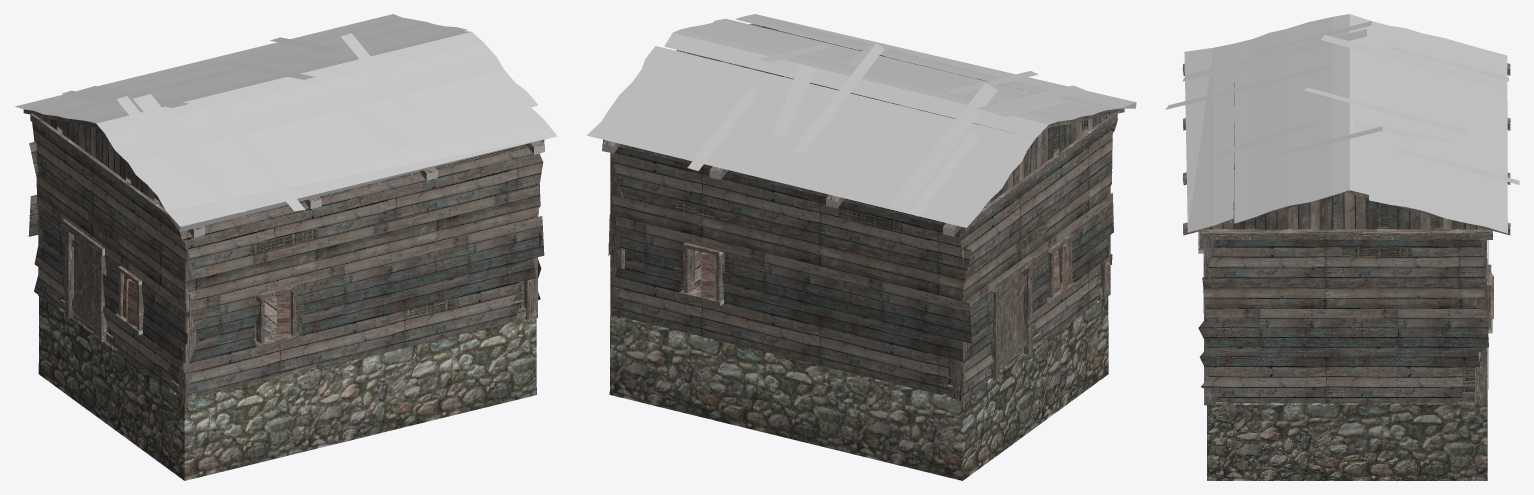
The model's file is House8_LOD2.fbx.
The picture shows the model from 3 angles, left to right: view 1: azimuth 30°, elevation 25°; view 2: azimuth 150°, elevation 25°; view 3: azimuth 270°, elevation 25°; orthographic projection. The views are drawn at different scales.
Parts seen in each view (by area): view 1: Base, Roof, Floor, Doors; view 2: Base, Roof, Floor, Doors; view 3: Roof, Base, Floor.
Part boxes in pixels (<box>): Base: <box>28,122,544,403</box>; Roof: <box>15,14,557,237</box>; Floor: <box>38,295,536,480</box>; Doors: <box>72,235,97,331</box>; Base: <box>608,61,1117,402</box>; Roof: <box>587,14,1136,236</box>; Floor: <box>609,254,1108,480</box>; Doors: <box>999,272,1026,367</box>; Roof: <box>1165,14,1519,239</box>; Base: <box>1198,82,1493,405</box>; Floor: <box>1207,240,1487,480</box>.
Bounding box in the file's own units: 10.62 × 8.5 × 8.79.
